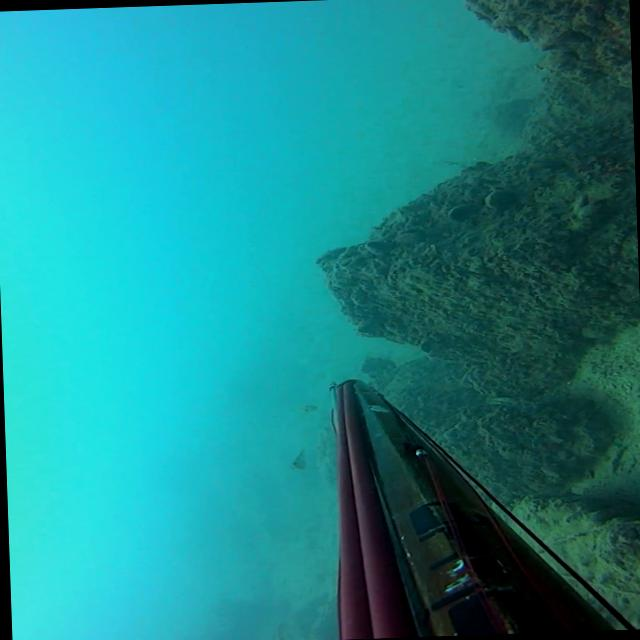Balon Baligi: (291, 448, 306, 469), (302, 404, 316, 412)
